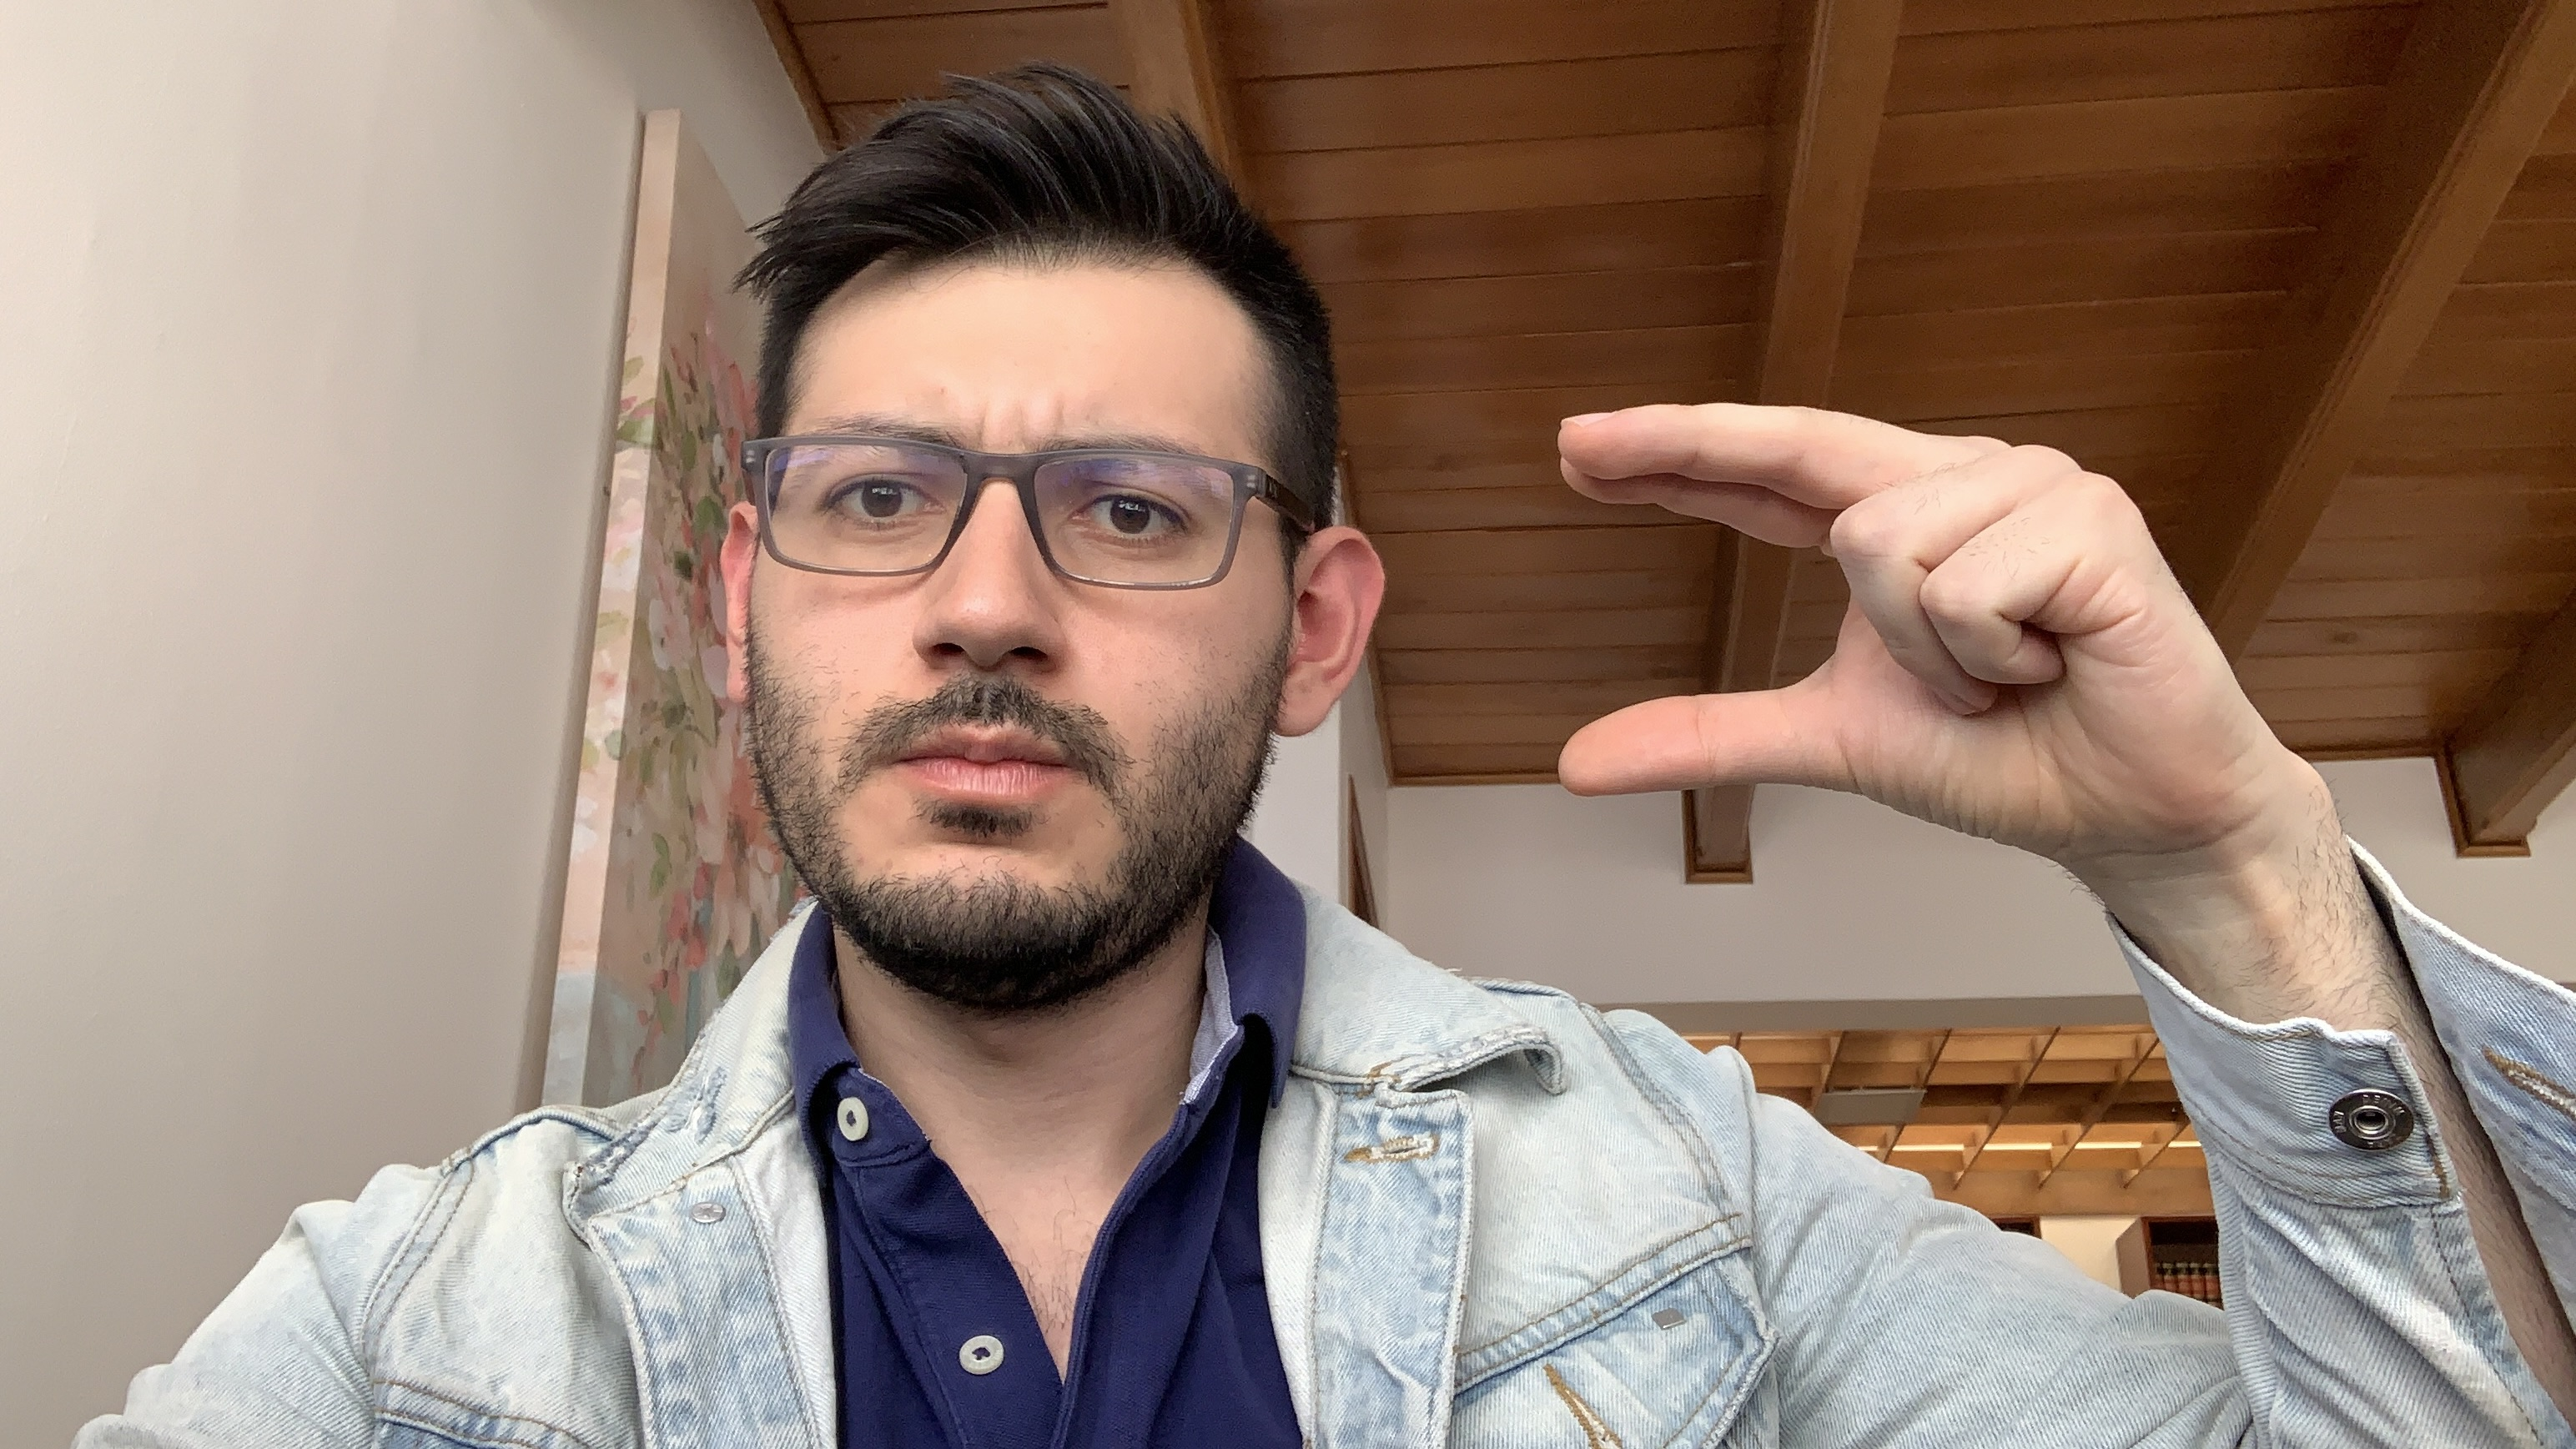No: (1537, 391, 2314, 915)
